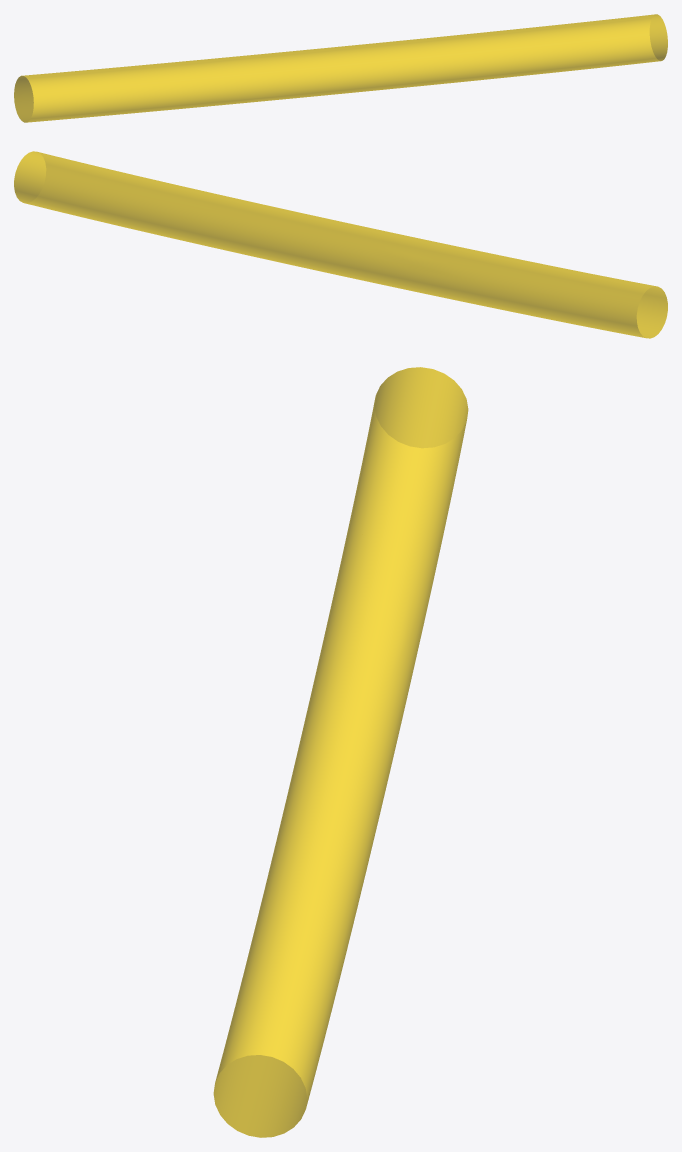
File: Event_40932208_track_36.fbx
3 views of the same model, one above another, from view 1: azimuth 30°, elevation 25°; view 2: azimuth 150°, elevation 25°; view 3: azimuth 270°, elevation 25° (orthographic). The views are drawn at different scales.
Parts seen in each view (by area): view 1: Model; view 2: Model; view 3: Model.
Part boxes in pixels (<box>): Model: <box>14,14,667,122</box>; Model: <box>14,151,667,338</box>; Model: <box>213,367,468,1137</box>.
Size of the model in its own units: 0.5863 by 0.0903 by 0.1078.
